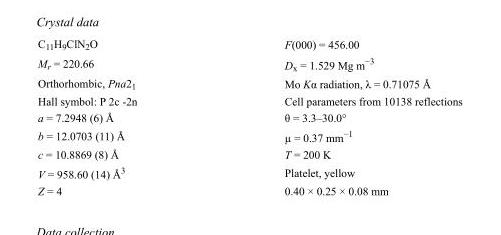table: (37, 37, 461, 196)
table column: (210, 37, 461, 196), (37, 37, 210, 196)
table row: (37, 53, 461, 74), (37, 125, 461, 145), (37, 162, 461, 182), (37, 74, 461, 92), (37, 108, 461, 125), (37, 145, 461, 162), (37, 37, 461, 53), (37, 92, 461, 108), (37, 182, 461, 196)
